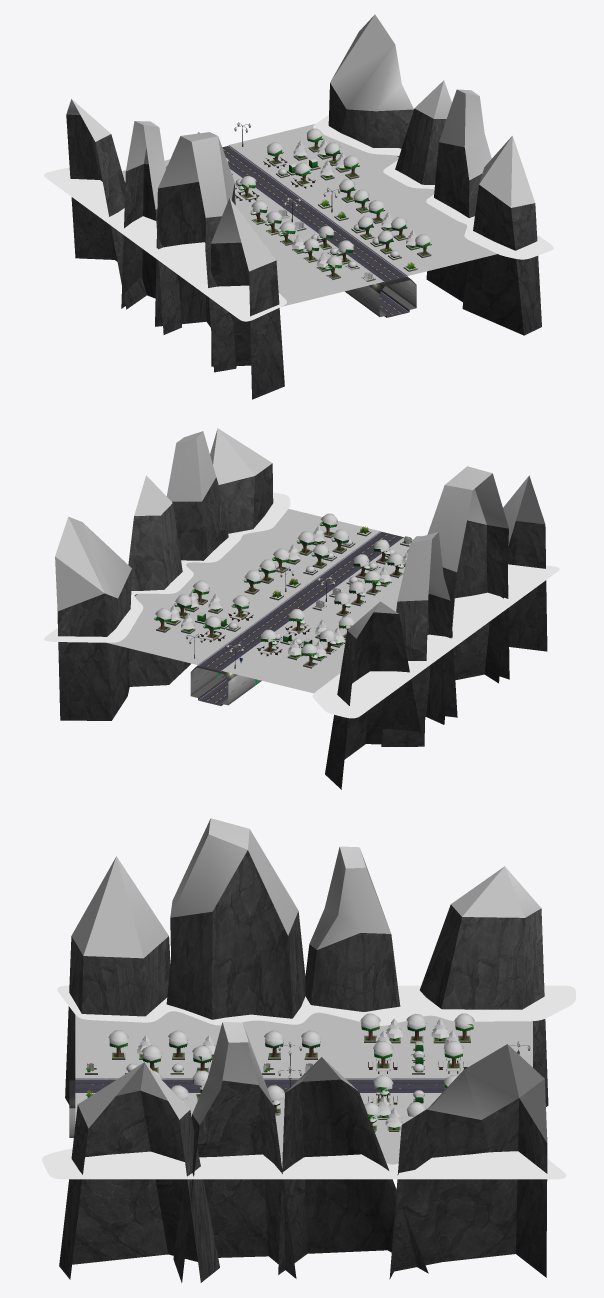
The model's file is citywinter_16.fbx.
3 views of the same model, one above another, from view 1: azimuth 30°, elevation 25°; view 2: azimuth 150°, elevation 25°; view 3: azimuth 270°, elevation 25° (orthographic). The views are drawn at different scales.
Parts seen in each view (by area): view 1: City_16; view 2: City_16; view 3: City_16.
Part boxes in pixels (x1,y1,x2,y2): City_16: [44, 14, 553, 399]; City_16: [44, 428, 559, 789]; City_16: [42, 818, 575, 1282].
Size of the model in its own units: 22617 by 13384 by 25170.
